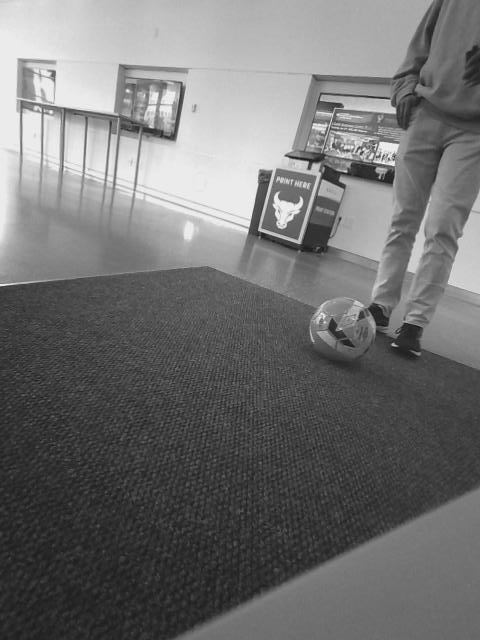ball: (308, 295, 378, 363)
